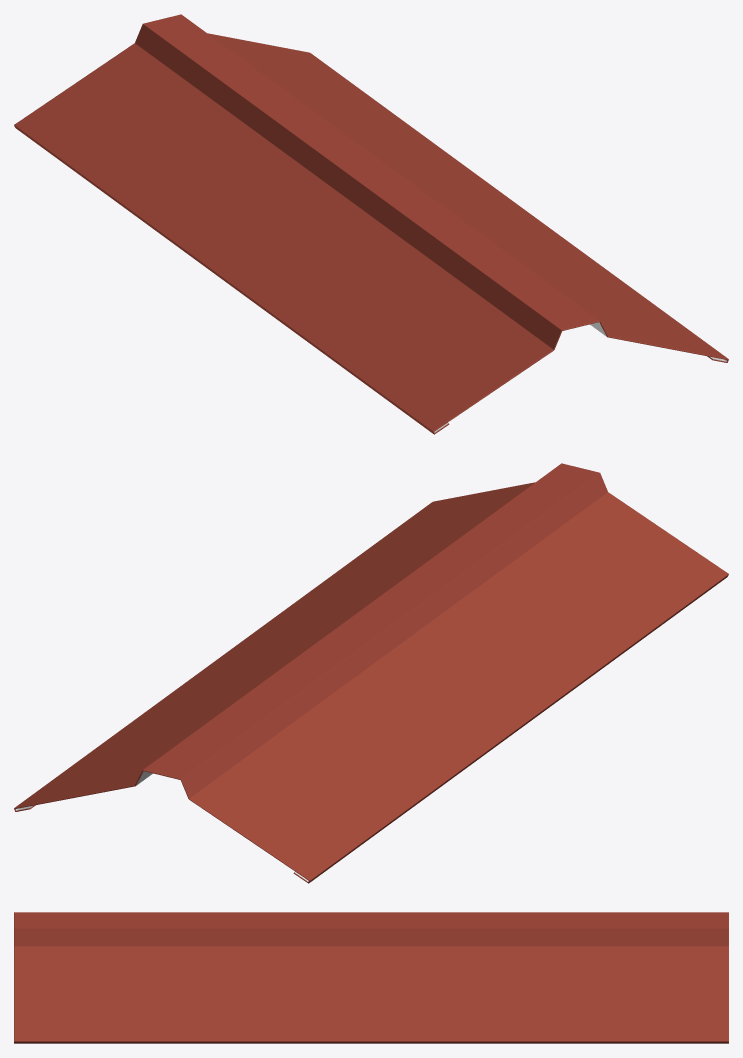
File: plankonkplosk150.gltf
The picture shows the model from 3 angles, top to bottom: view 1: azimuth 30°, elevation 25°; view 2: azimuth 150°, elevation 25°; view 3: azimuth 270°, elevation 25°; orthographic projection. The views are drawn at different scales.
Visible parts, largest first — view 1: w1ll-k; view 2: w1ll-k; view 3: w1ll-k.
Boxes of the visible parts, left/top/right/bottom form: w1ll-k: left=14, top=14, right=728, bottom=434; w1ll-k: left=14, top=463, right=728, bottom=883; w1ll-k: left=14, top=912, right=728, bottom=1043.
Bounding box in the file's own units: 818 × 194 × 2004.
